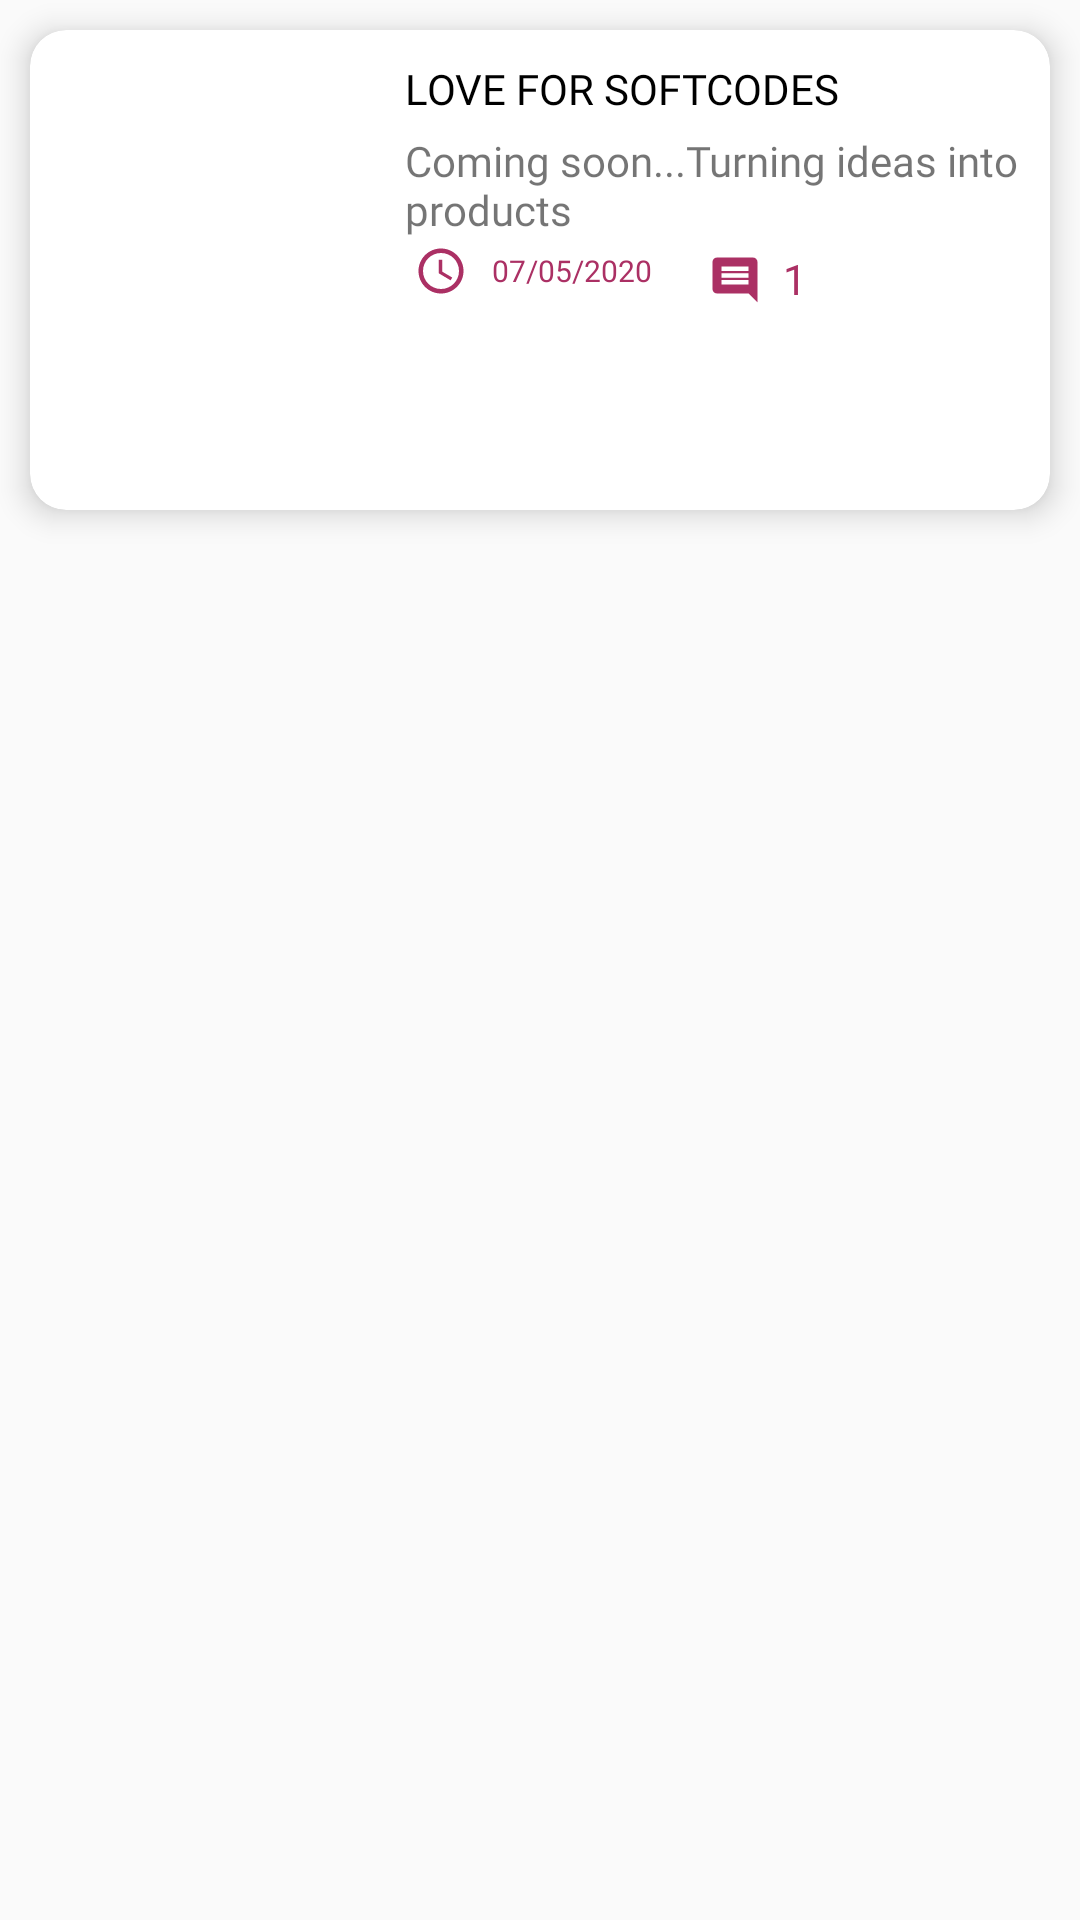

Named icons in this screenshot (1080 × 1920) and their bounding boxes, (x1, y1, x2, y2):
clock: (418, 248, 464, 294)
comment: (712, 257, 758, 302)
